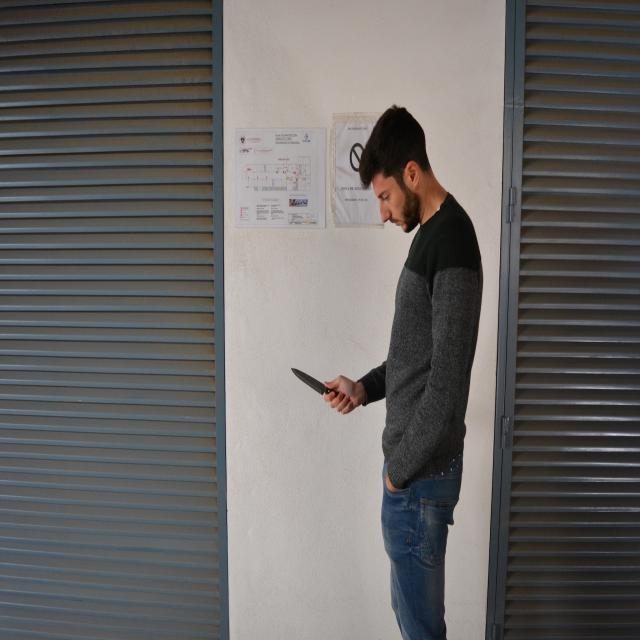knife: (290, 361, 327, 400)
